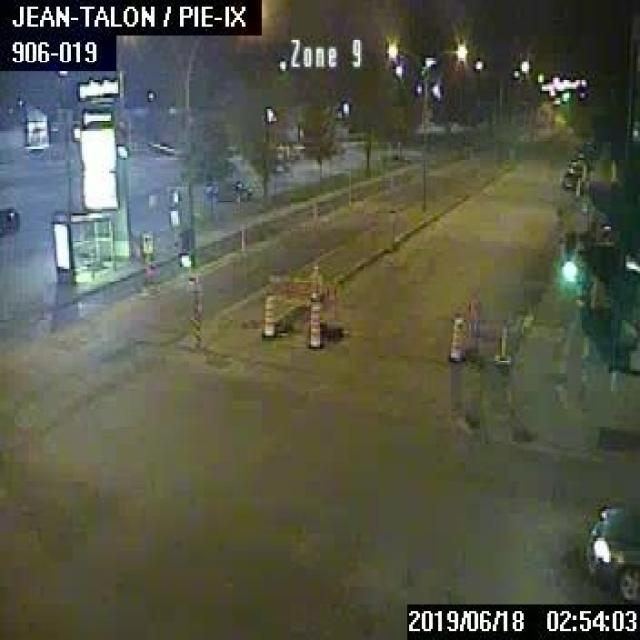construction: (263, 263, 342, 341), (452, 299, 511, 364), (306, 302, 322, 349), (447, 316, 463, 360), (259, 293, 273, 337)
vehicle: (578, 498, 638, 602), (202, 178, 253, 202), (0, 203, 16, 234), (561, 166, 580, 189)
